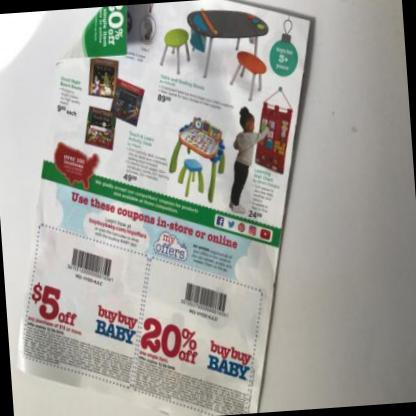Paper: (19, 0, 313, 416)
